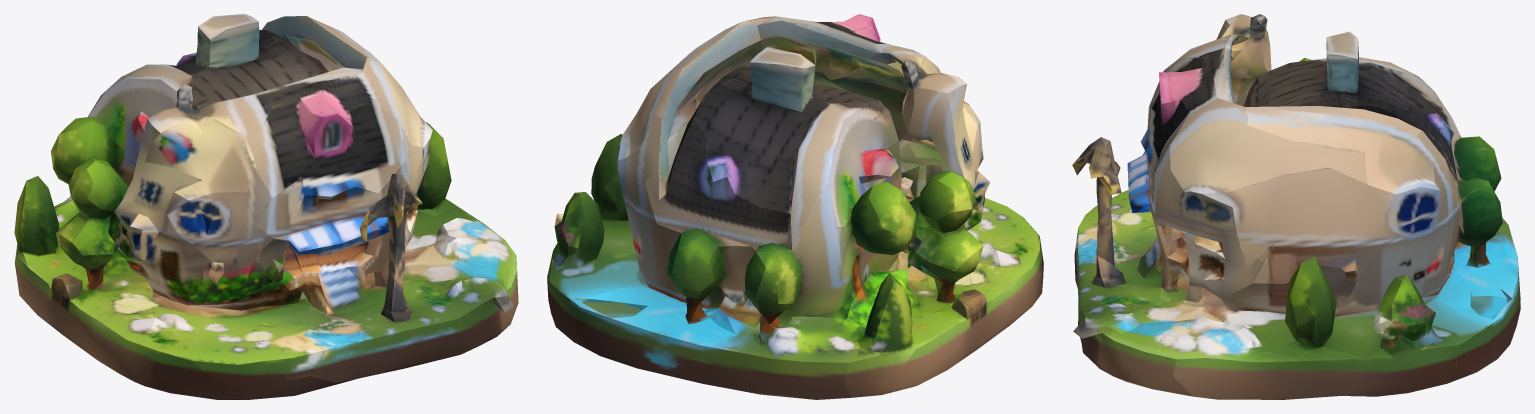
The model's file is house-tidepool-cottage.glb.
3 views of the same model, side by side, from view 1: azimuth 30°, elevation 25°; view 2: azimuth 150°, elevation 25°; view 3: azimuth 270°, elevation 25° (orthographic).
Parts seen in each view (by area): view 1: geometry_0; view 2: geometry_0; view 3: geometry_0.
Part boxes in pixels (x1=…): geometry_0: x1=14, y1=14, x2=518, y2=399; geometry_0: x1=547, y1=14, x2=1043, y2=399; geometry_0: x1=1072, y1=14, x2=1520, y2=399.
Size of the model in its own units: 1 by 0.6372 by 0.9971.
1 material, 1 textured.
